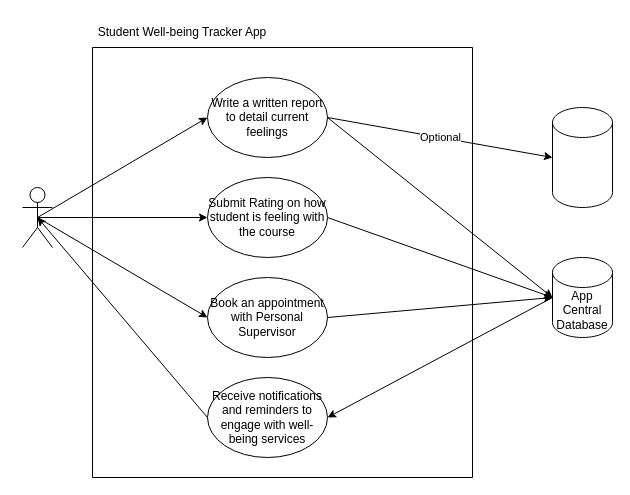
This 630x495 diagram has some shape labels left out. The centre of each missing label's shape, as x and y in pixels:
"Hull Student Support Database" goes at [582,157].
"Student" goes at [37,217].
